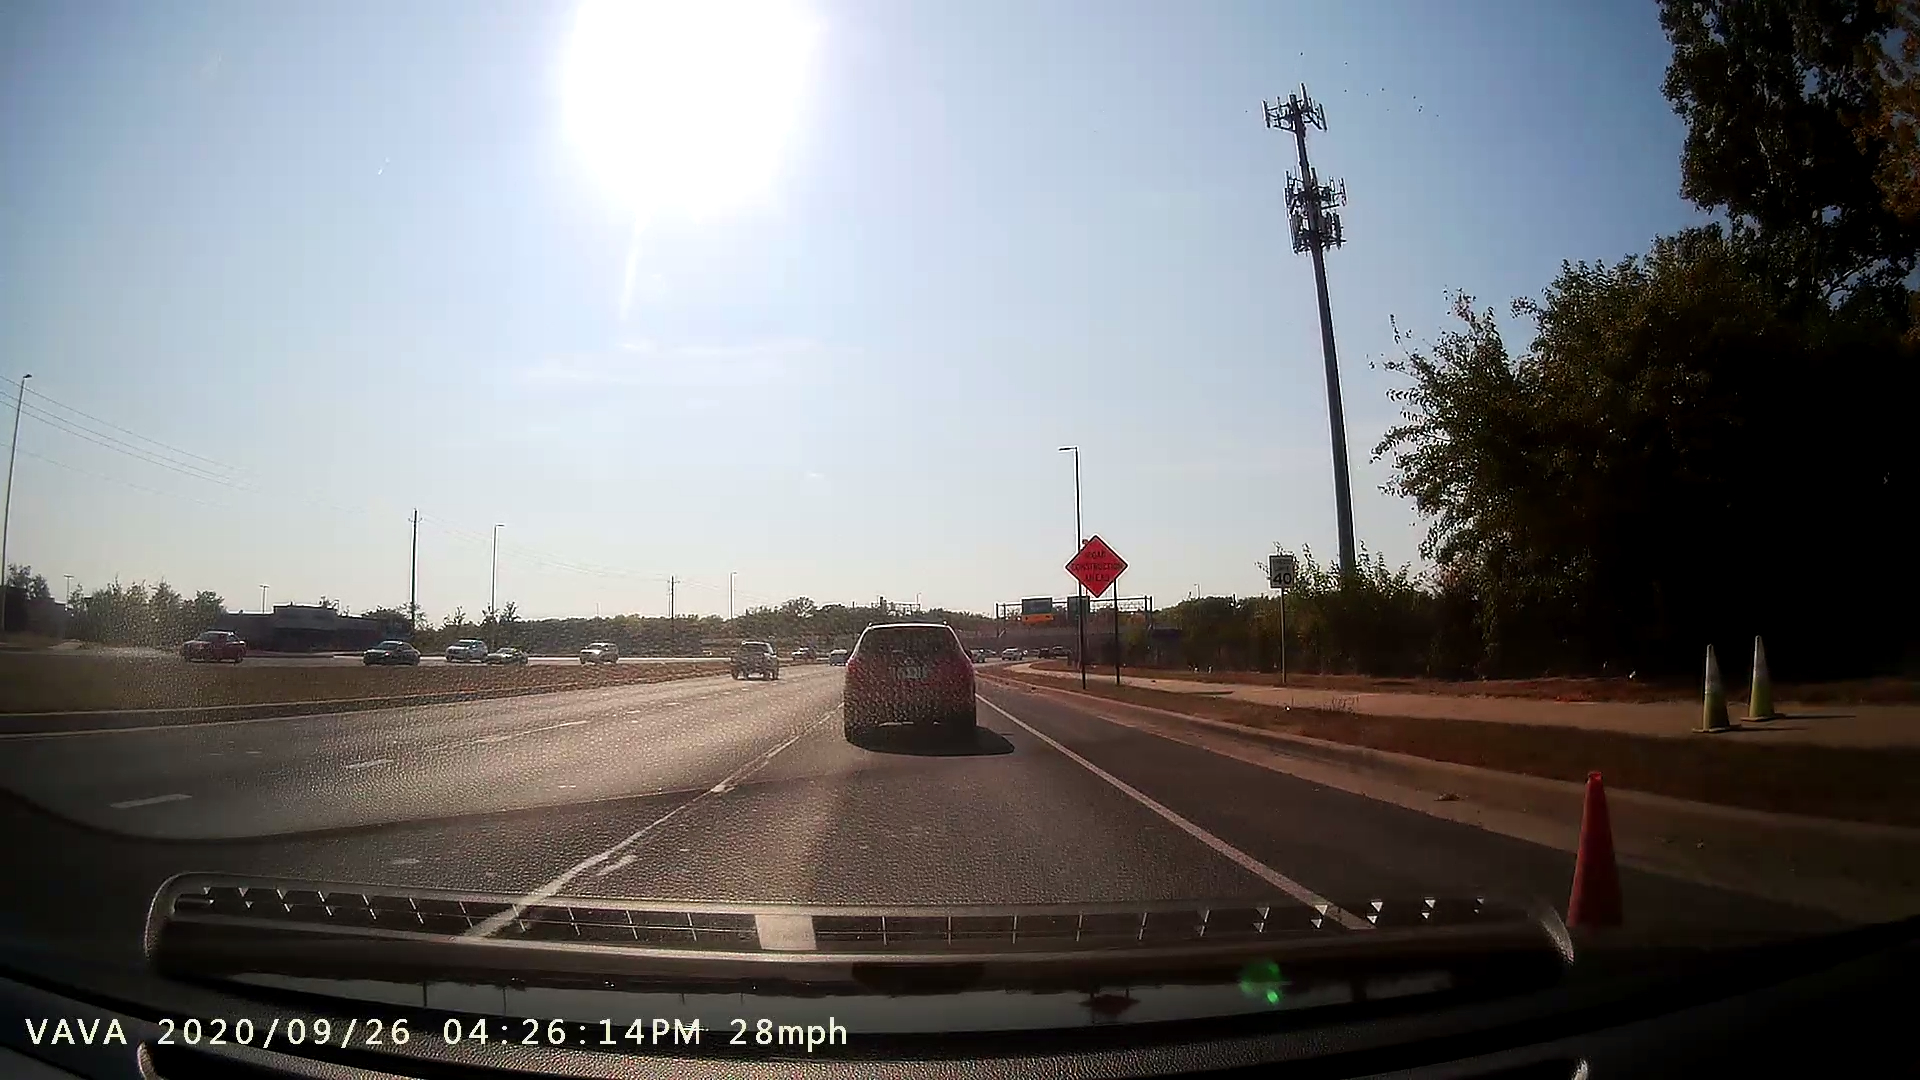const_cone: (1680, 622, 1741, 742)
ttcs_end_const: (1060, 524, 1147, 694)
